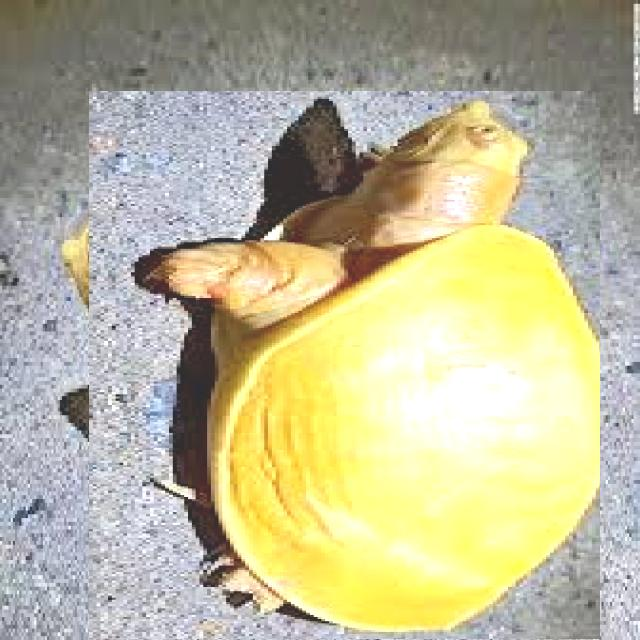Sea turtle: (70, 109, 618, 640)
